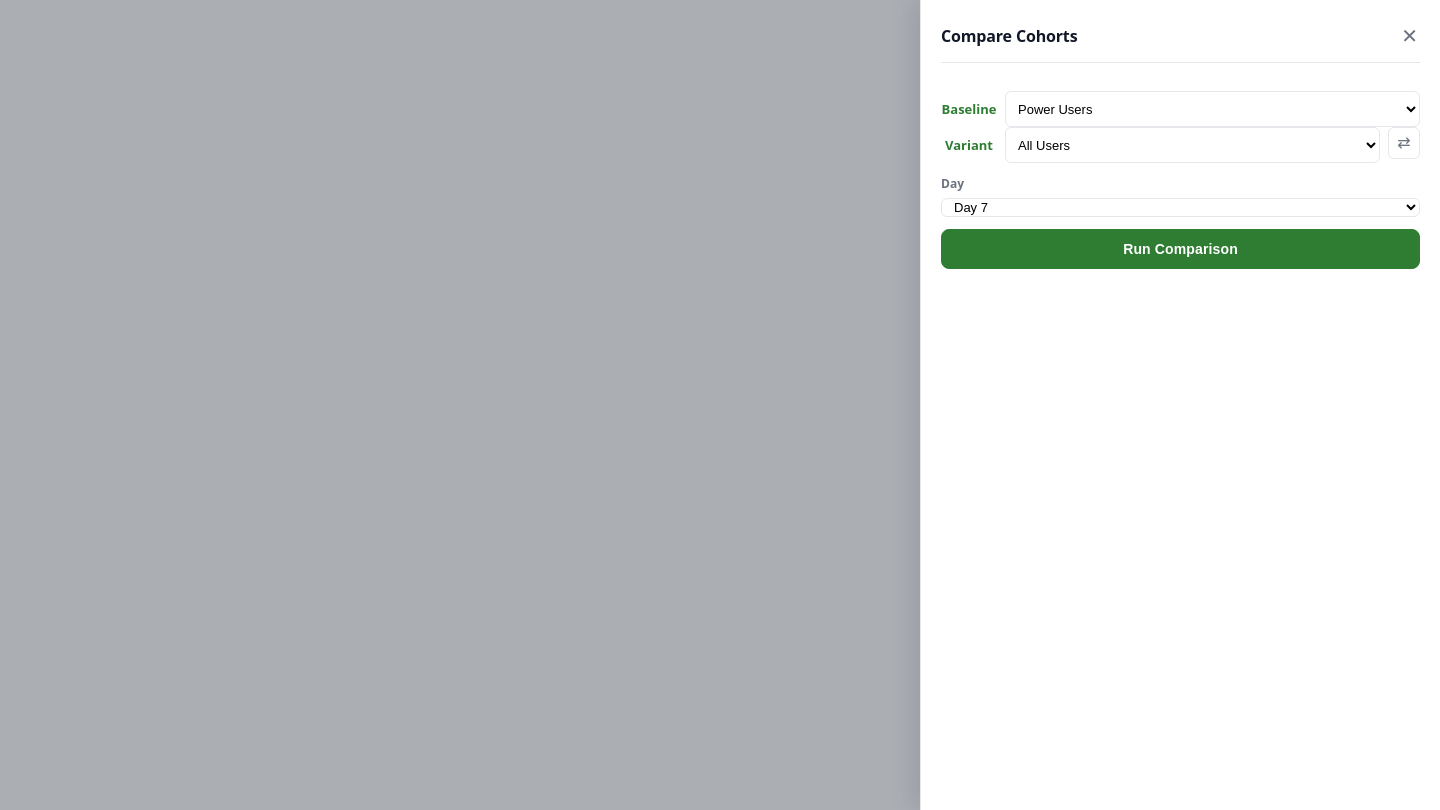
ComparePane › swap_button_swaps_variant_and_baseline
Expected: the dropdown with test id "compare-cohort-a" shows "All Users", [1005,127,1380,163]
Expected: the dropdown with test id "compare-cohort-b" shows "Power Users", [1005,91,1420,127]
// Click swap
Click the button with test id "compare-swap-button".
click(1404, 143)  # box [1388,127,1420,159]
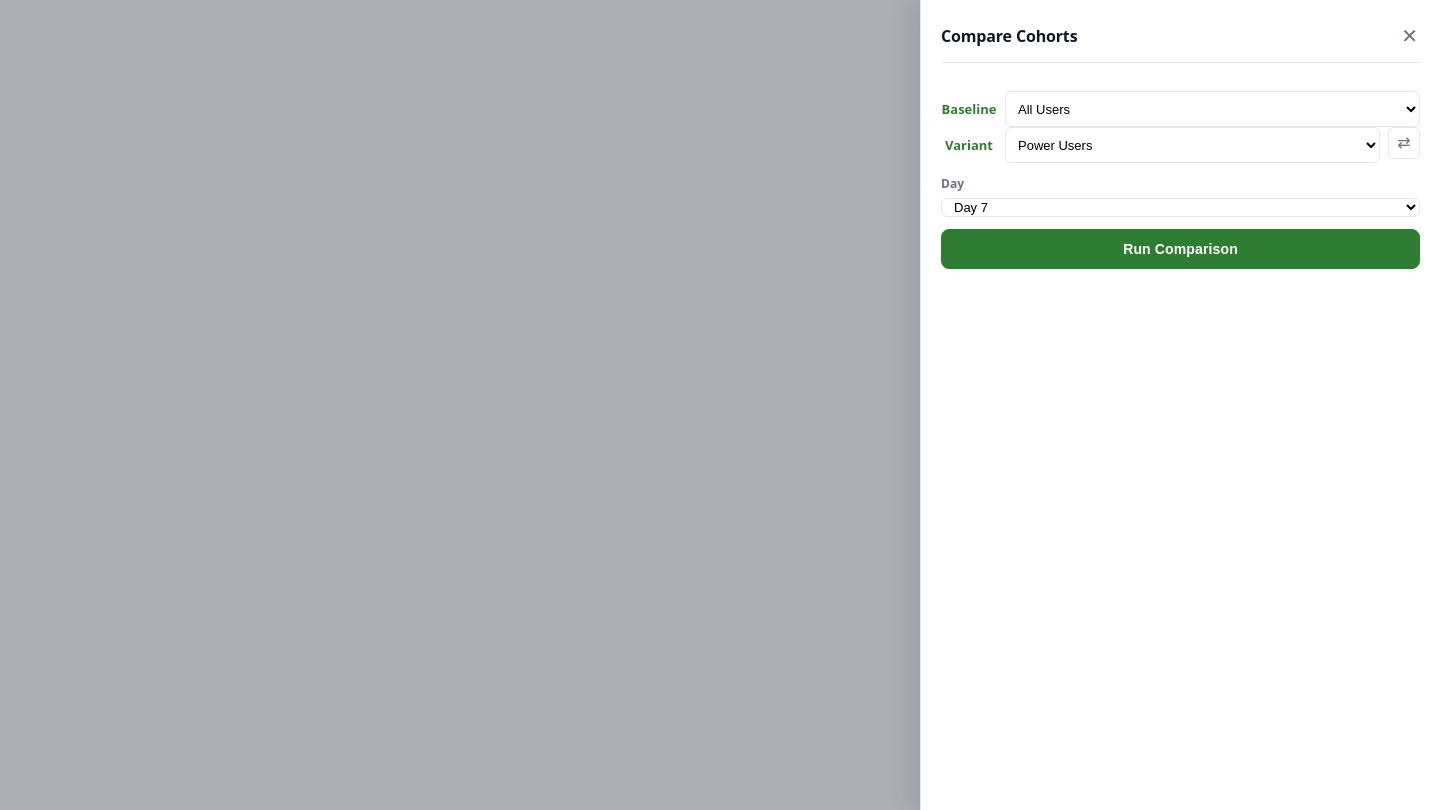
Result: the dropdown with test id "compare-cohort-a" shows "Power Users" at [1005,127,1380,163]
Result: the dropdown with test id "compare-cohort-b" shows "All Users" at [1005,91,1420,127]
